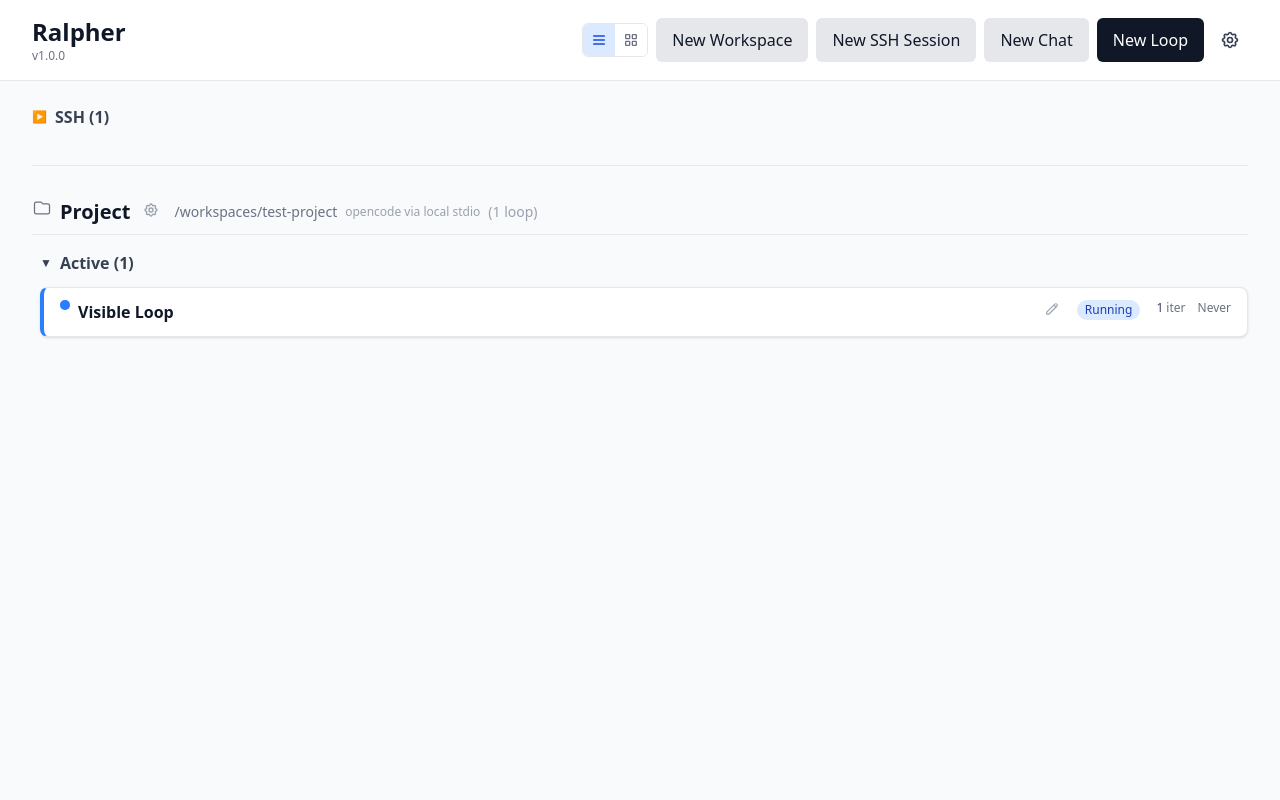
Test: ssh section › renders a single collapsed SSH section that can reveal workspace sessions
The width and height of the screenshot is (1280, 800).
Expected: the text "Remote Shell" is not shown
Expected: the text "Workspace SSH Sessions" is not shown
Click the button "▶ SSH (1)" at (71,117), box [32,105,109,129]
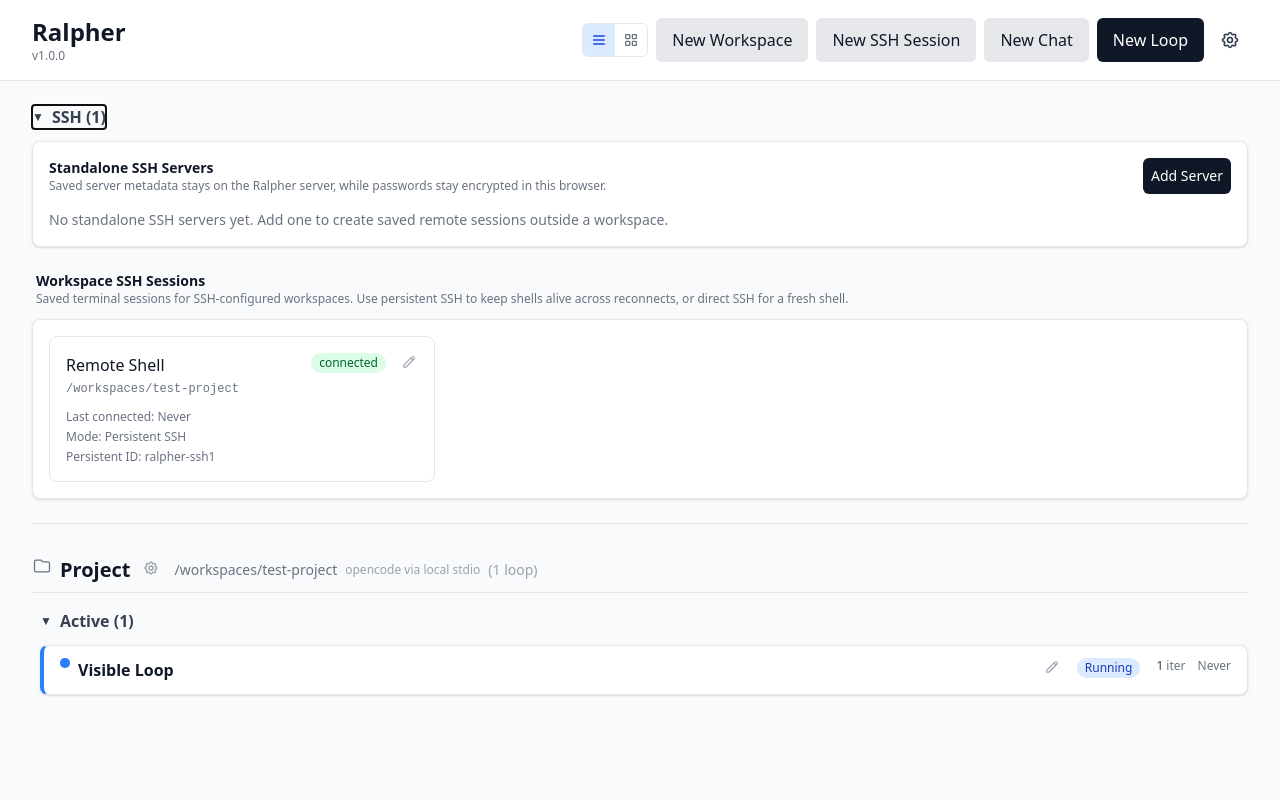
Expected: the heading "Visible Loop" is shown, [78,659,174,681]
Result: the heading "Remote Shell" is shown at [66,354,164,376]
Result: the heading "Workspace SSH Sessions" is shown at [36,271,205,290]
